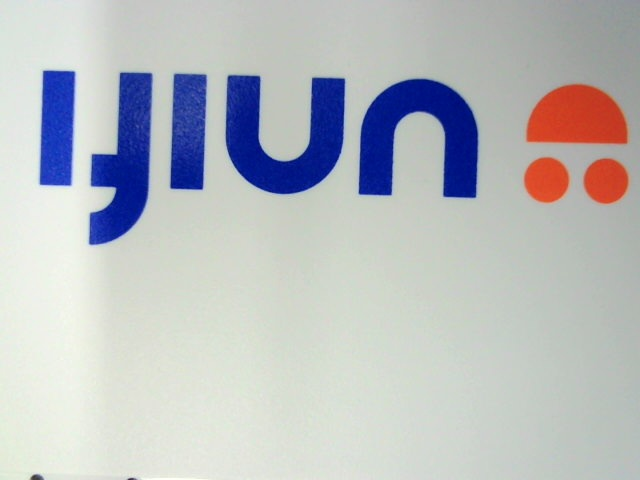BN_unifi: (17, 59, 629, 258)
